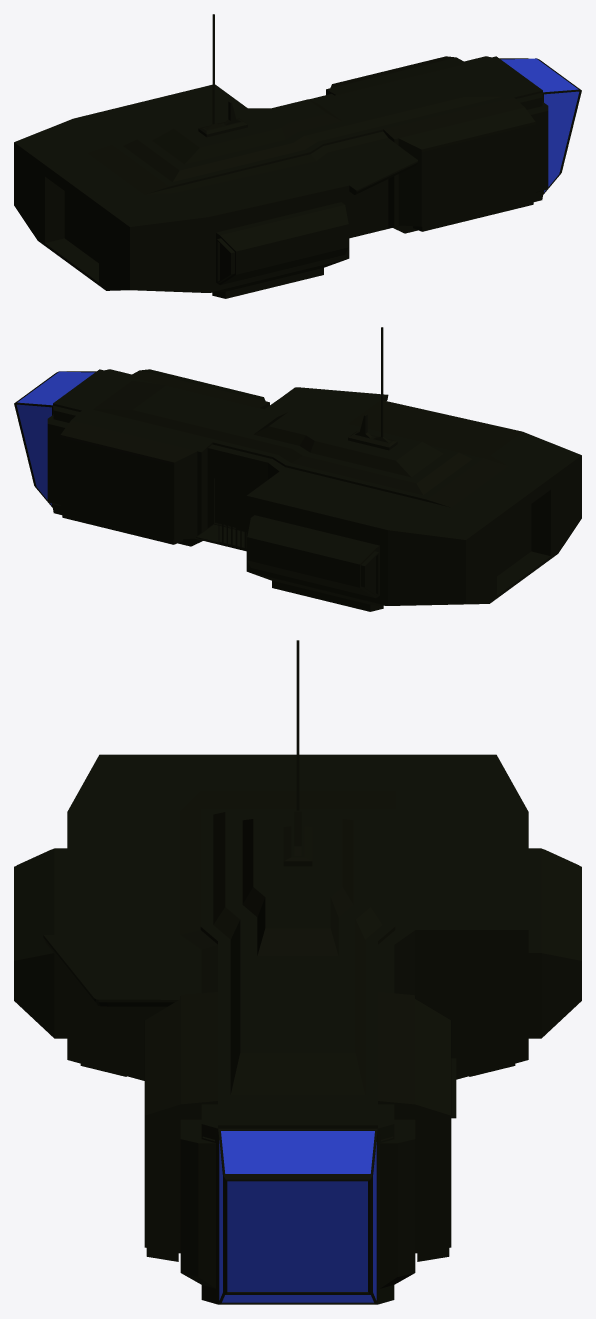
Rendered from freight1.mtl.obj.
3 views of the same model, one above another, from view 1: azimuth 30°, elevation 25°; view 2: azimuth 150°, elevation 25°; view 3: azimuth 270°, elevation 25° (orthographic). The views are drawn at different scales.
Visible parts, largest first — view 1: Cube; view 2: Cube; view 3: Cube.
Part boxes in pixels (<box>): Cube: <box>14,14,581,298</box>; Cube: <box>14,327,581,611</box>; Cube: <box>14,640,581,1304</box>.
Bounding box in the file's own units: 11.32 × 5.38 × 6.65.
